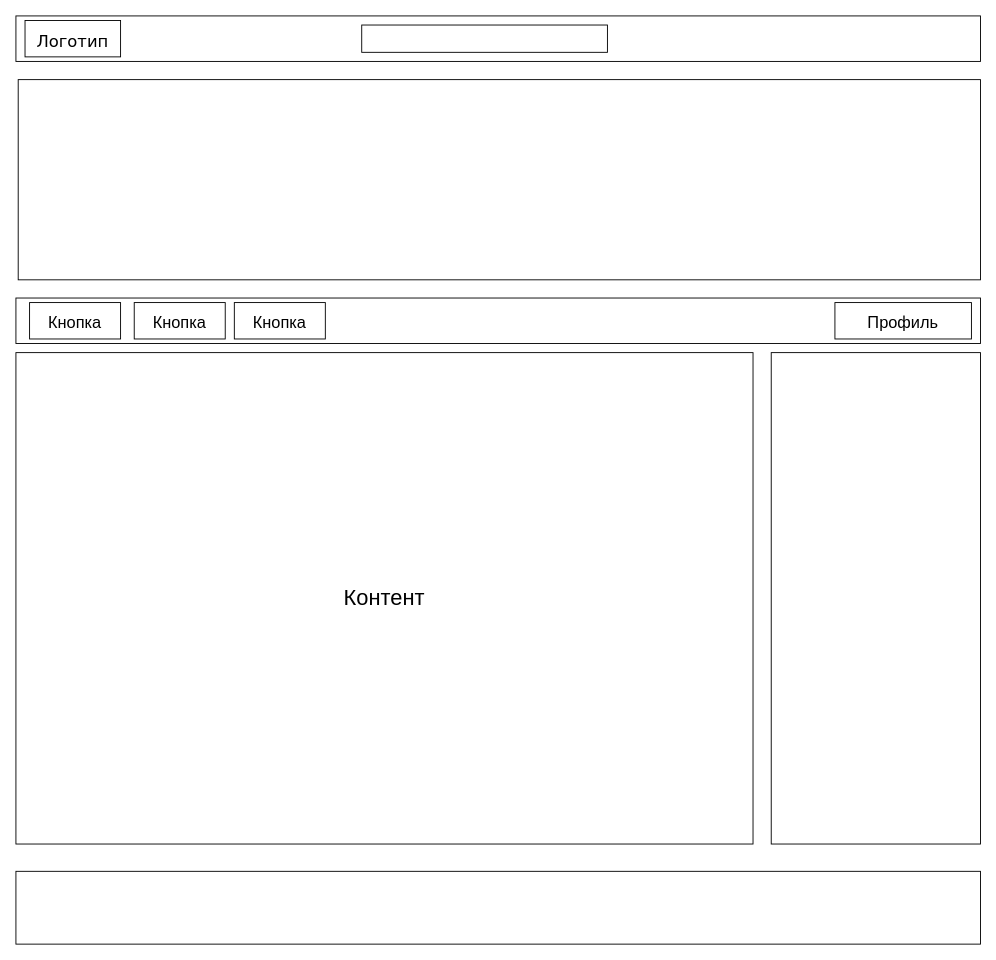
Image size: 996x960. Some labels were removed from this diagram. Each missing label, with the centre of its shape:
"Меню" goes at point (875, 598).
"Поиск" goes at point (484, 38).
"Слайдер с информацией о тематике разделов" goes at point (499, 179).
